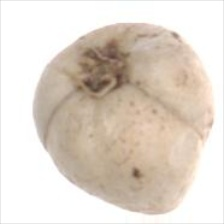L4: (33, 22, 214, 214)
